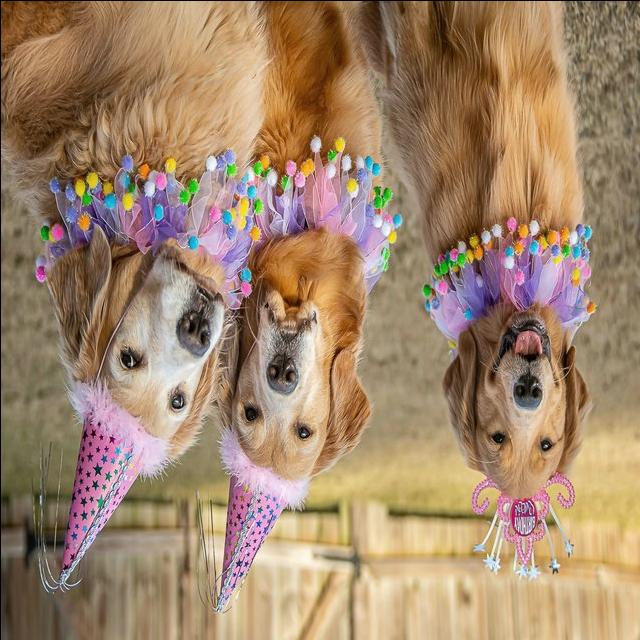retriever: (2, 2, 272, 477), (356, 2, 595, 502), (212, 2, 388, 505)
